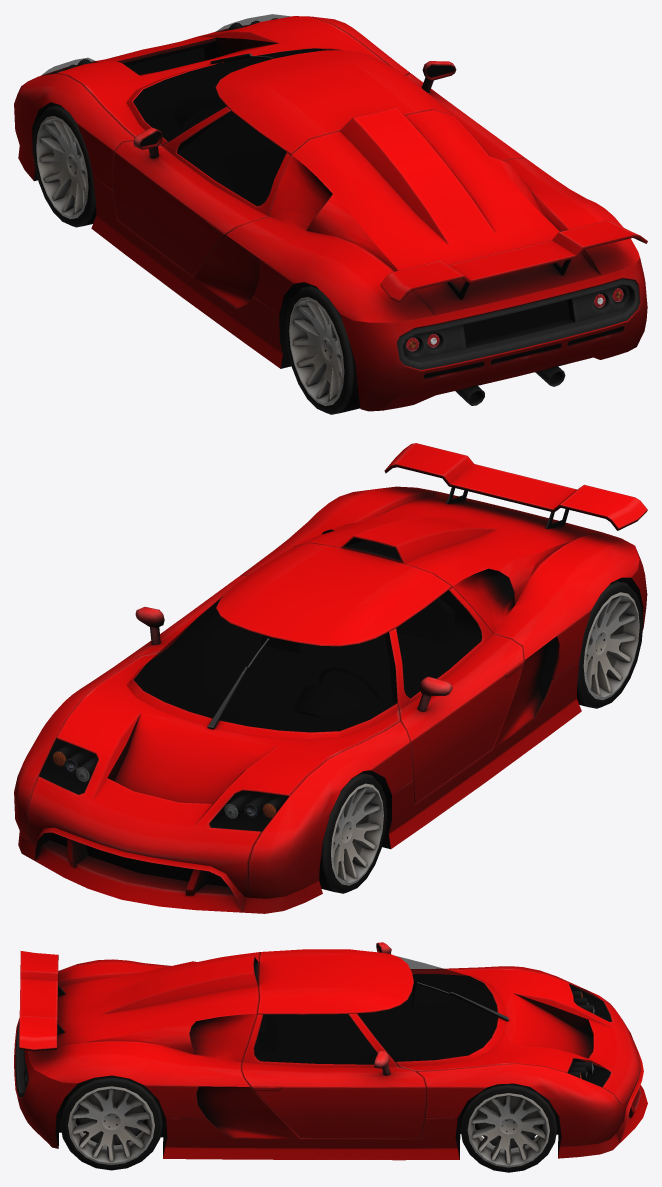
File: generic_sport.glb
3 renders of one model, top to bottom at view 1: azimuth 30°, elevation 25°; view 2: azimuth 150°, elevation 25°; view 3: azimuth 270°, elevation 25°, orthographic. The views are drawn at different scales.
Visible parts, largest first — view 1: Sport body_Body_0, Sport body_Glass_0, Wheel_H001_Wheel_0, Wheel_H_Wheel_0, Sport body_Optics_0; view 2: Sport body_Body_0, Sport body_Glass_0, Wheel_H001_Wheel_0, Wheel_H_Wheel_0, Sport body_Optics_0; view 3: Sport body_Body_0, Sport body_Glass_0, Wheel_H003_Wheel_0, Wheel_H002_Wheel_0.
Part boxes in pixels (x1=…): Sport body_Body_0: x1=14, y1=16, x2=647, y2=411; Sport body_Glass_0: x1=41, y1=14, x2=341, y2=205; Wheel_H001_Wheel_0: x1=285, y1=285, x2=360, y2=414; Wheel_H_Wheel_0: x1=33, y1=105, x2=96, y2=227; Sport body_Optics_0: x1=406, y1=288, x2=623, y2=351; Sport body_Body_0: x1=14, y1=443, x2=647, y2=913; Sport body_Glass_0: x1=39, y1=590, x2=481, y2=831; Wheel_H001_Wheel_0: x1=577, y1=580, x2=643, y2=708; Wheel_H_Wheel_0: x1=319, y1=772, x2=387, y2=893; Sport body_Optics_0: x1=52, y1=751, x2=276, y2=818; Sport body_Body_0: x1=14, y1=942, x2=647, y2=1160; Sport body_Glass_0: x1=254, y1=956, x2=611, y2=1086; Wheel_H003_Wheel_0: x1=60, y1=1075, x2=162, y2=1170; Wheel_H002_Wheel_0: x1=460, y1=1083, x2=557, y2=1172.
Size of the model in its own units: 1.77 by 1.04 by 3.91.
Materials: 4 (3 with a texture image).
